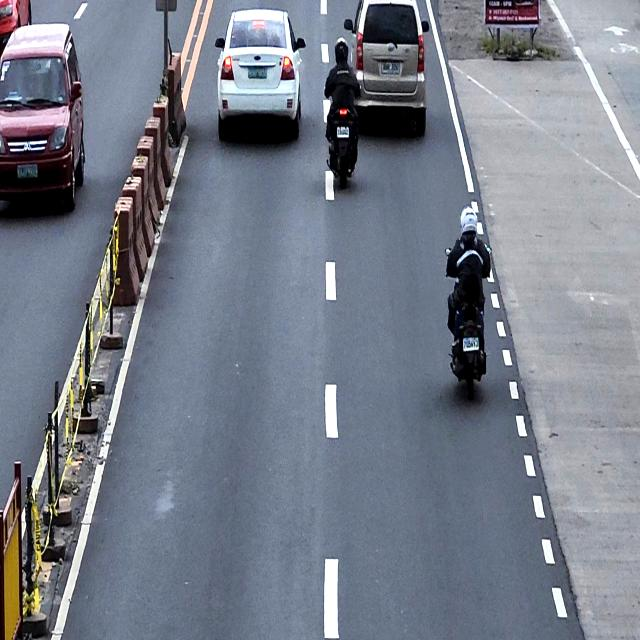Car: (0, 22, 85, 208), (214, 8, 306, 139), (344, 0, 429, 136)
License-Plate: (16, 164, 39, 181), (380, 60, 401, 76), (247, 64, 268, 80), (462, 337, 480, 351), (336, 125, 350, 139)
Motorcycle: (444, 243, 491, 399), (324, 85, 359, 188)
